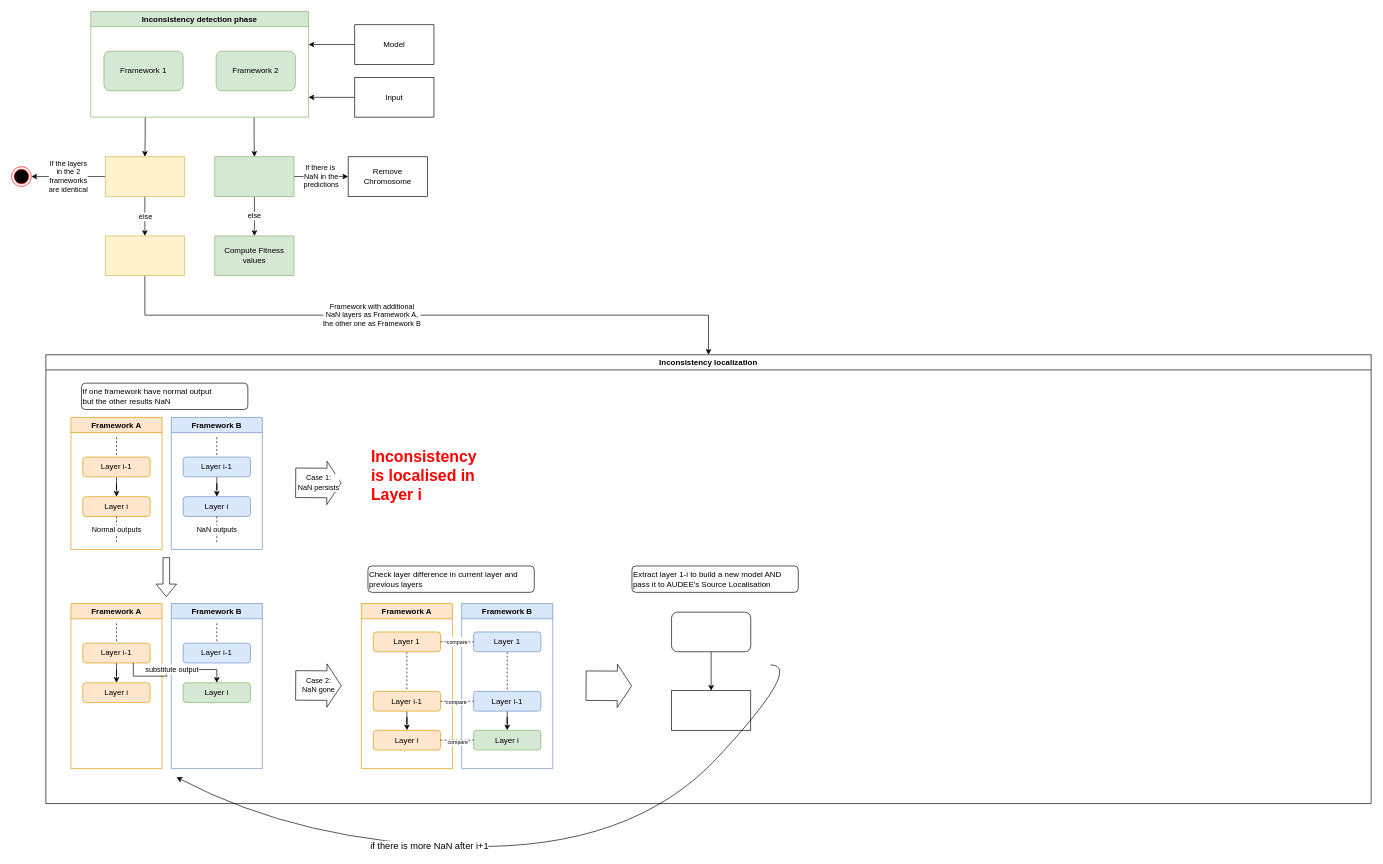
The diagram is 1383 pixels wide and 864 high, and some of its shapes have lost their labels. Each missing label, with the centre of its shape:
AUDEE's SL: point 711,710
Find the set difference of the NaN layers: point 144,255
Layers with NaN in the 2 frameworks: point 144,176
Model': point 711,631
Predictions from logit layers: point 254,176
